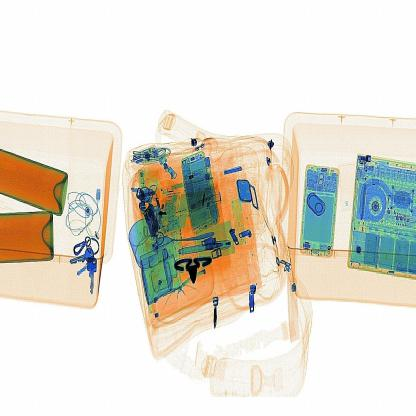gun: (168, 240, 214, 286)
